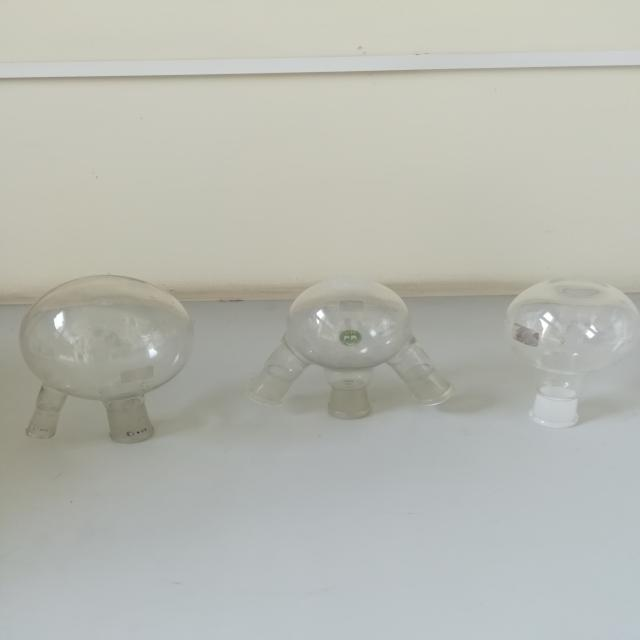Round_Bottom_Flask_Borosilicate_Glass_1_Neck: (488, 255, 640, 462)
Round_Bottom_Flask_Borosilicate_Glass_2_Neck: (5, 247, 220, 487)
Round_Bottom_Flask_Borosilicate_Glass_3_Neck: (235, 262, 471, 457)
